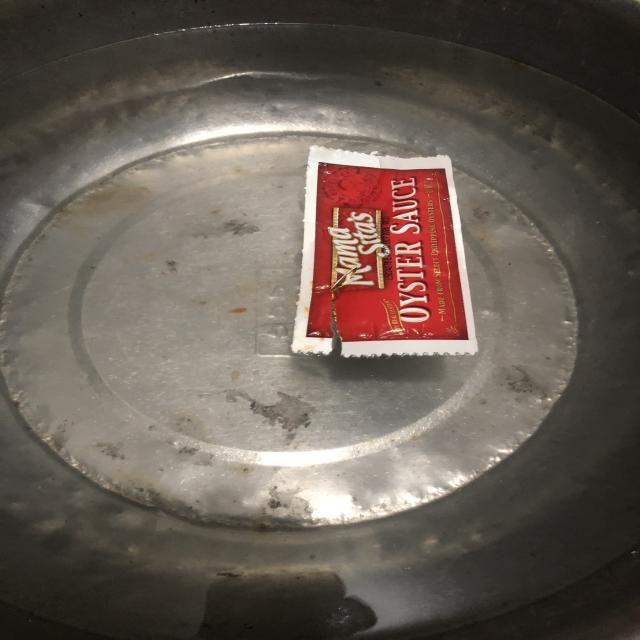Plastic Wrapper: (292, 146, 477, 357)
